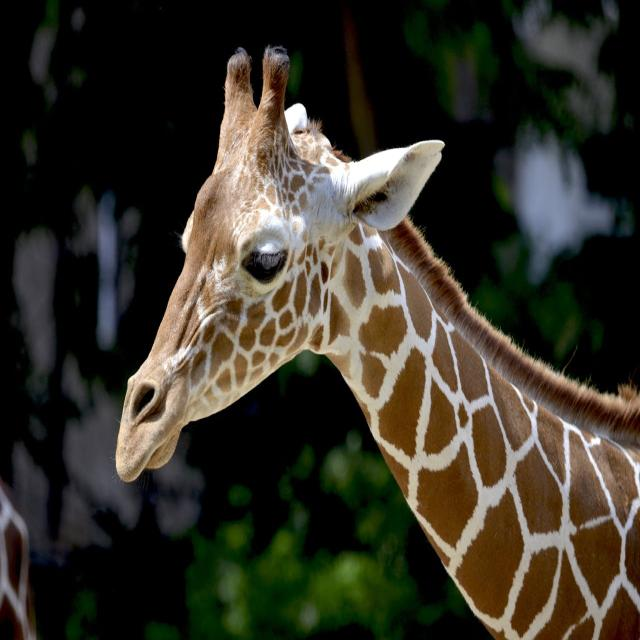Giraffe: (114, 47, 640, 640)
